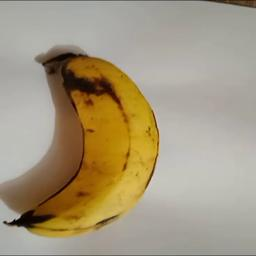Banana Semifresh: (10, 48, 162, 238)
